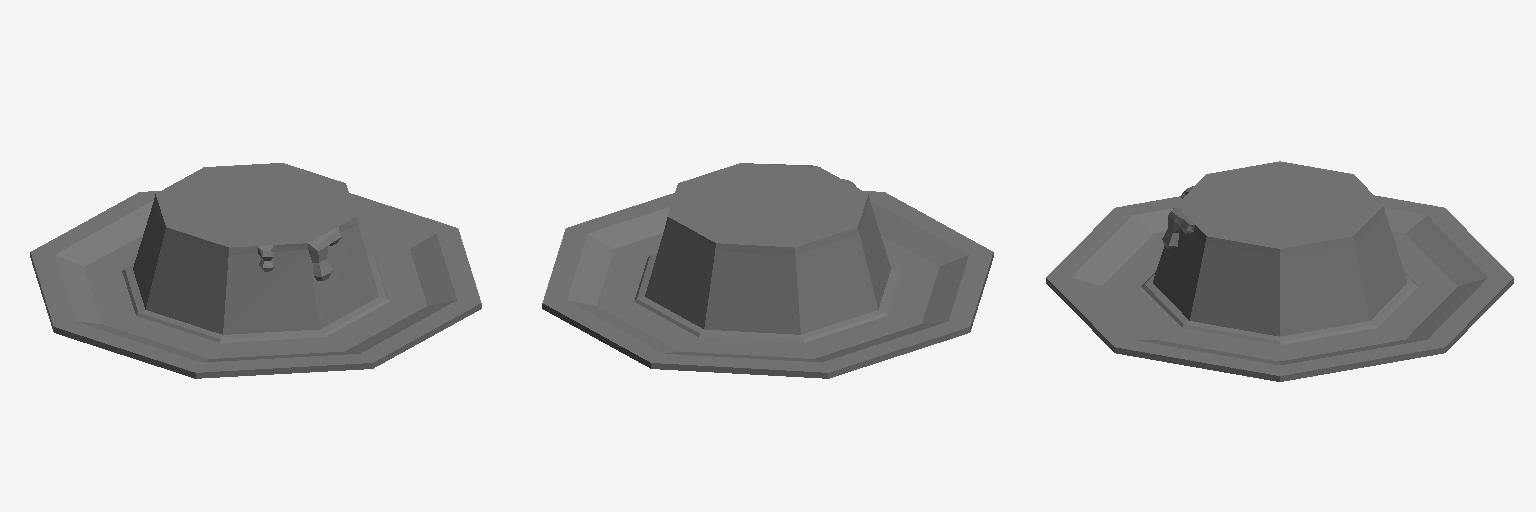
Rendered from Flan.obj.
3 renders of one model, left to right at view 1: azimuth 30°, elevation 25°; view 2: azimuth 150°, elevation 25°; view 3: azimuth 270°, elevation 25°, orthographic.
Parts seen in each view (by area): view 1: Flan_mesh; view 2: Flan_mesh; view 3: Flan_mesh.
Part boxes in pixels (bbox=[...]): Flan_mesh: bbox=[30, 163, 481, 378]; Flan_mesh: bbox=[542, 163, 993, 378]; Flan_mesh: bbox=[1046, 161, 1513, 381].
Size of the model in its own units: 11.32 by 2.72 by 11.32.